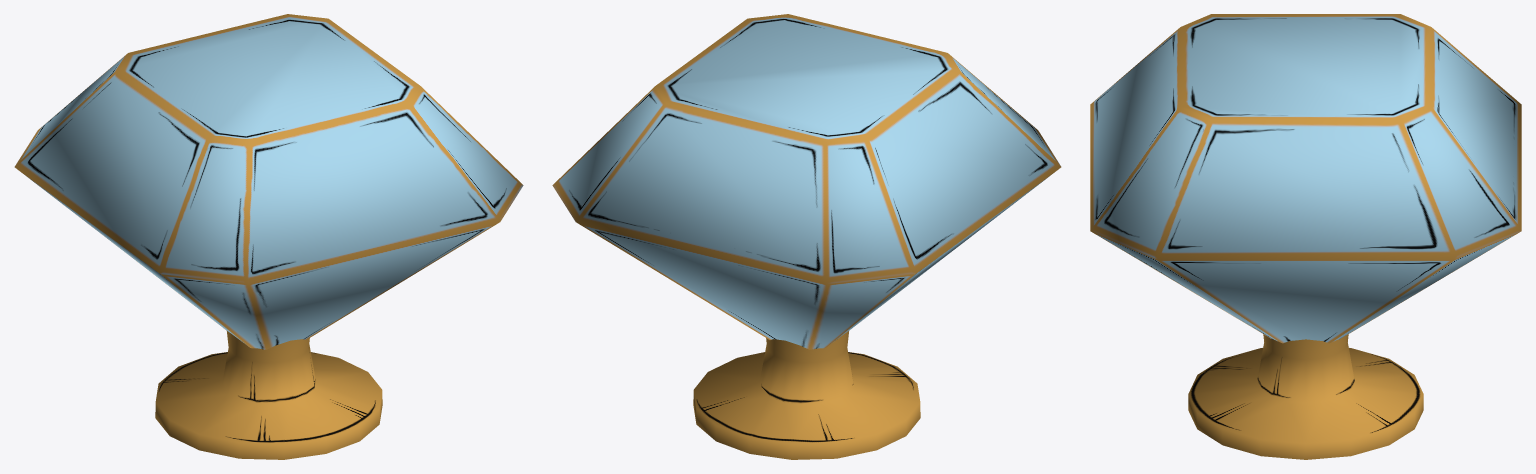
File: diamond_table.fbx
3 views of the same model, side by side, from view 1: azimuth 30°, elevation 25°; view 2: azimuth 150°, elevation 25°; view 3: azimuth 270°, elevation 25° (orthographic). The views are drawn at different scales.
Parts seen in each view (by area): view 1: diamond_table; view 2: diamond_table; view 3: diamond_table.
Boxes of the visible parts, x1,y1,x2,y2 form: diamond_table: (14, 14, 523, 459); diamond_table: (552, 14, 1061, 459); diamond_table: (1090, 14, 1521, 459).
Size of the model in its own units: 1 by 0.8783 by 1.
1 material, 1 textured.
